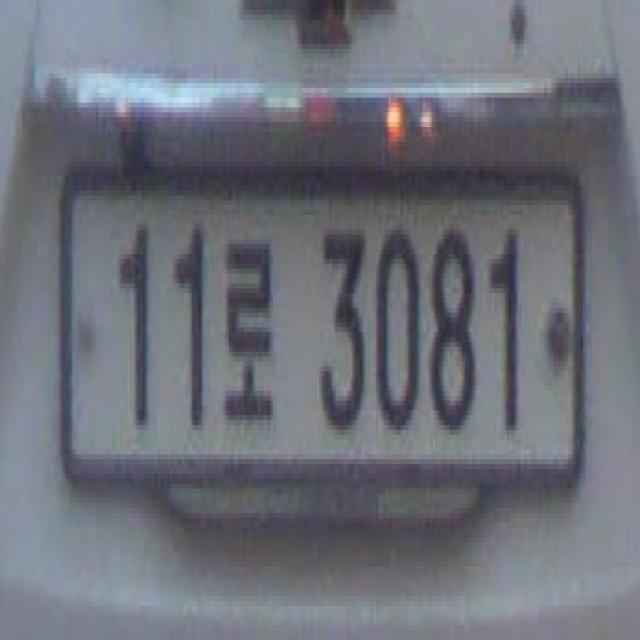0: (375, 206, 424, 444)
1: (488, 216, 526, 443), (118, 210, 154, 430), (174, 218, 208, 438)
3: (314, 218, 372, 446)
8: (430, 214, 478, 434)
license_plate: (58, 154, 594, 502)
lo: (219, 226, 286, 438)
